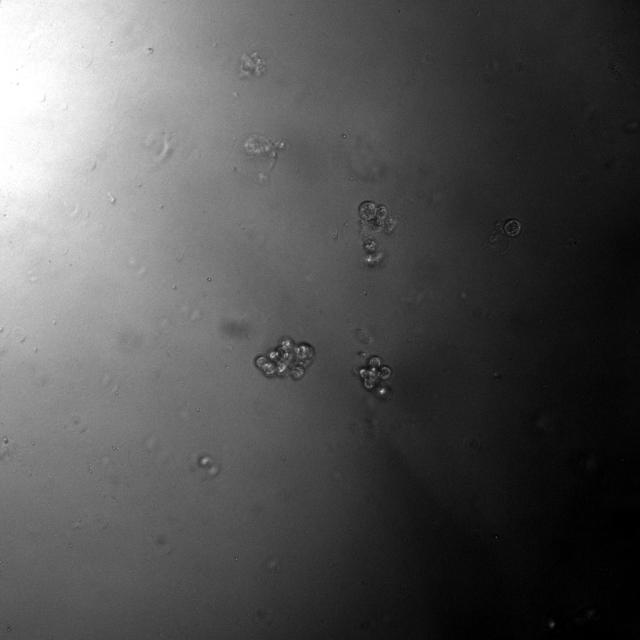organoid: (340, 200, 398, 269), (255, 336, 316, 381), (353, 350, 392, 399), (241, 133, 286, 168), (486, 219, 521, 255), (239, 52, 266, 78), (197, 454, 219, 477)
